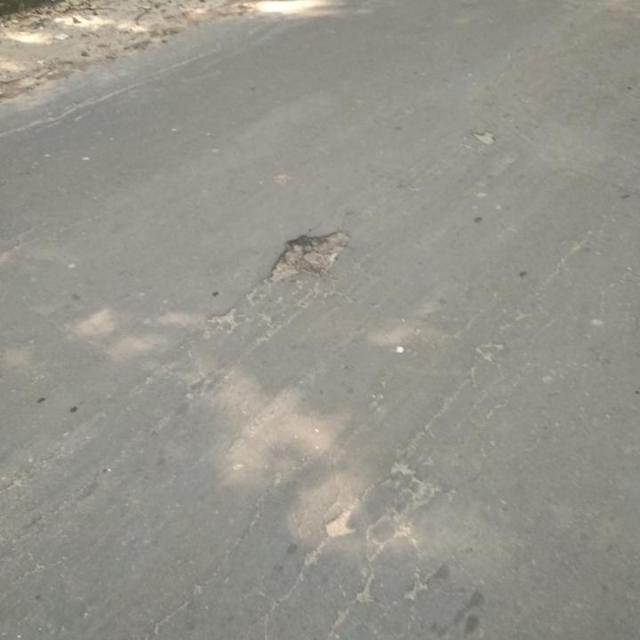medium_pothole: (266, 226, 349, 285)
minor_pothole: (321, 508, 357, 538), (48, 26, 96, 47), (0, 40, 31, 60), (470, 128, 495, 145), (20, 20, 46, 30), (30, 0, 61, 8), (50, 10, 74, 20), (74, 0, 103, 8), (0, 1, 13, 10), (9, 0, 29, 3)
